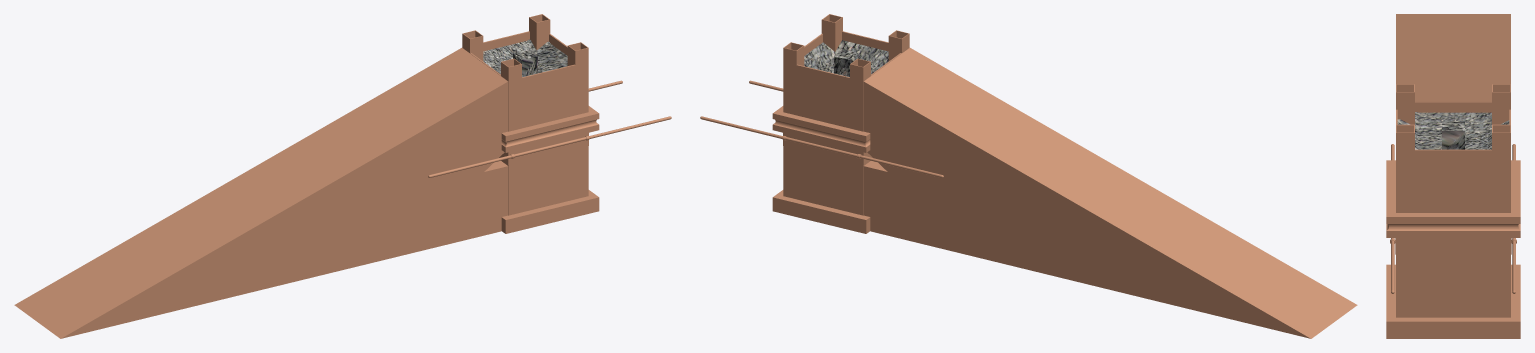
File: mizbeach_nechoshet.fbx
3 views of the same model, side by side, from view 1: azimuth 30°, elevation 25°; view 2: azimuth 150°, elevation 25°; view 3: azimuth 270°, elevation 25° (orthographic). The views are drawn at different scales.
Parts seen in each view (by area): view 1: ramp, mizbeach, earth, rod, fence1; view 2: ramp, mizbeach, earth, rod2, fence3; view 3: mizbeach, ramp, earth, fence4, rod2, rod.
Part boxes in pixels (left/top/right/bottom): ramp: left=14, top=48, right=508, bottom=338; mizbeach: left=462, top=14, right=599, bottom=233; earth: left=483, top=39, right=567, bottom=77; rod: left=428, top=116, right=671, bottom=177; fence1: left=508, top=133, right=588, bottom=165; ramp: left=863, top=48, right=1357, bottom=338; mizbeach: left=772, top=14, right=909, bottom=233; earth: left=804, top=40, right=888, bottom=77; rod2: left=700, top=116, right=943, bottom=177; fence3: left=783, top=133, right=863, bottom=165; mizbeach: left=1386, top=84, right=1520, bottom=338; ramp: left=1396, top=14, right=1510, bottom=101; earth: left=1397, top=112, right=1509, bottom=149; fence4: left=1396, top=238, right=1510, bottom=254; rod2: left=1512, top=144, right=1515, bottom=293; rod: left=1391, top=144, right=1394, bottom=293.
Size of the model in its own units: 2281 by 580 by 350.
